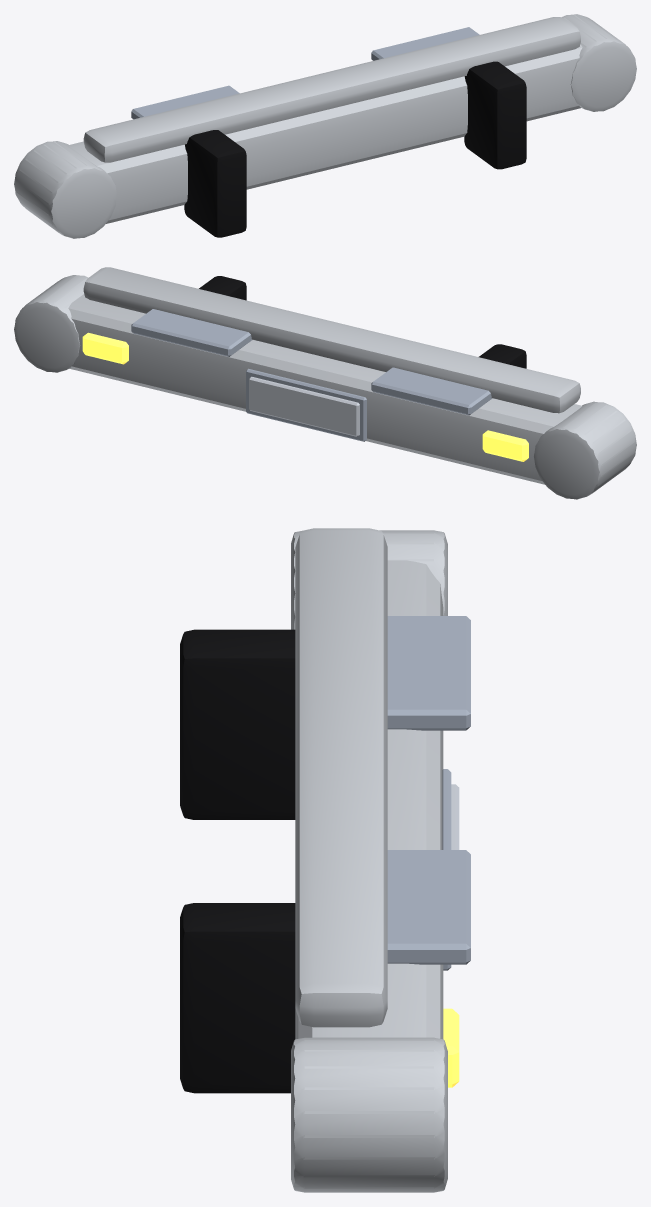
The model's file is fb_standard_chrome.glb.
The picture shows the model from 3 angles, top to bottom: view 1: azimuth 30°, elevation 25°; view 2: azimuth 150°, elevation 25°; view 3: azimuth 270°, elevation 25°; orthographic projection. The views are drawn at different scales.
Parts seen in each view (by area): view 1: chrome, plastic_black, steel; view 2: chrome, steel, paint_white, lamp_amber, plastic_black; view 3: chrome, plastic_black, steel, lamp_amber.
Boxes of the visible parts, bbox=[...] form: chrome: bbox=[14, 14, 636, 238]; plastic_black: bbox=[184, 61, 526, 237]; steel: bbox=[131, 27, 479, 119]; chrome: bbox=[14, 267, 636, 499]; steel: bbox=[131, 309, 492, 441]; paint_white: bbox=[249, 376, 359, 436]; lamp_amber: bbox=[82, 332, 528, 461]; plastic_black: bbox=[199, 276, 526, 368]; chrome: bbox=[291, 528, 447, 1192]; plastic_black: bbox=[180, 629, 295, 1093]; steel: bbox=[387, 616, 470, 970]; lamp_amber: bbox=[443, 1008, 459, 1087].
Size of the model in its own units: 2.94 by 0.45 by 0.63.
